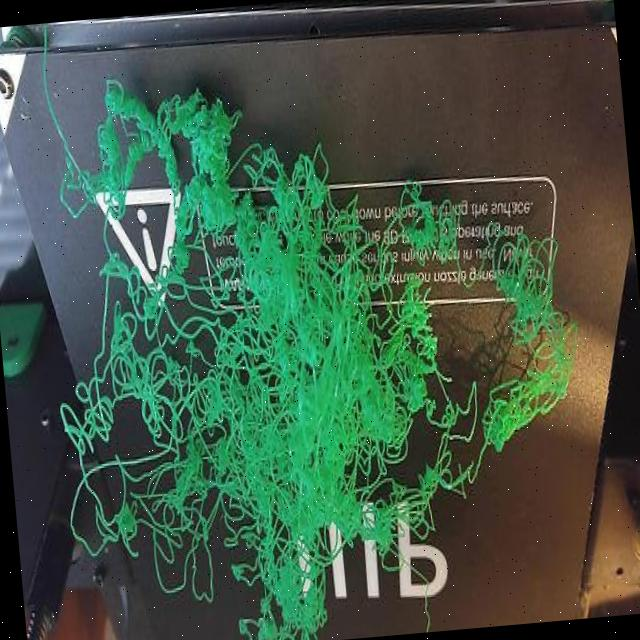spaghetti: (32, 41, 603, 640)
